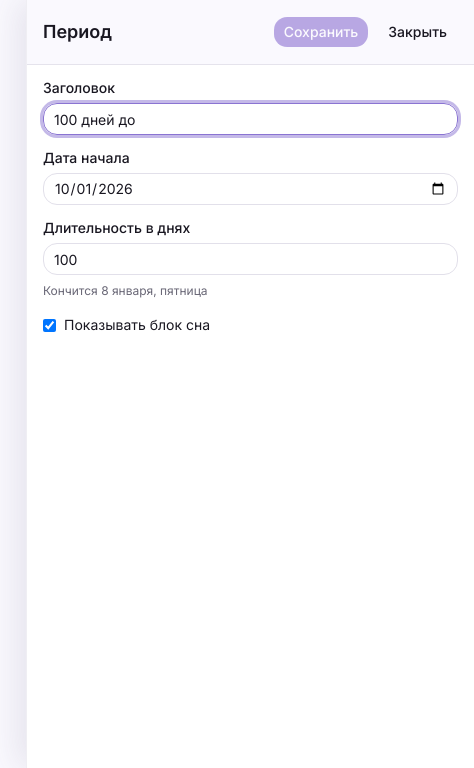
SettingsDrawer › пересчитывает дату окончания при смене длительности
Replace the text in the number field labelled "Длительность в днях" with "30" at (250, 259), box left=43, top=243, right=458, bottom=275
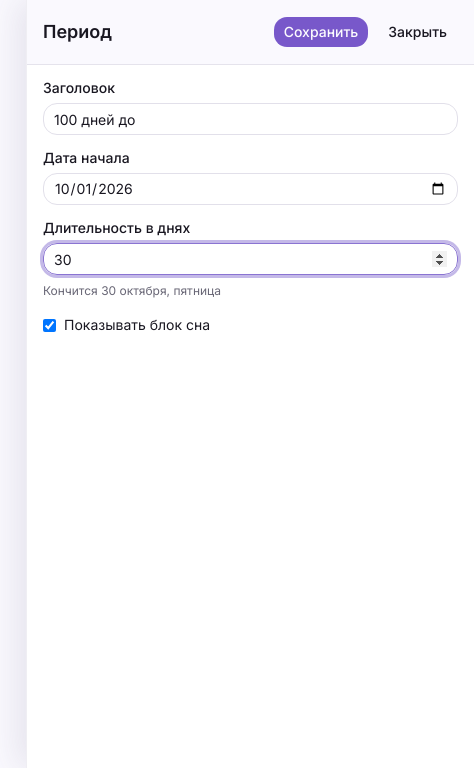
Expected: the text "Кончится 30 октября, пятница" is shown, left=43, top=283, right=221, bottom=298
